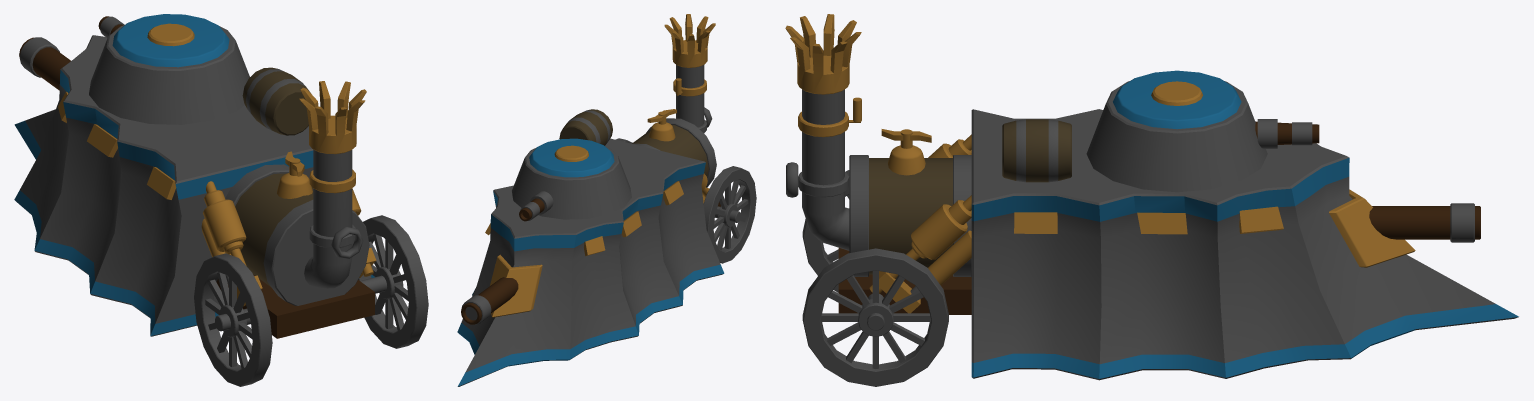
File: warhammer-tank.fbx
3 renders of one model, left to right at view 1: azimuth 30°, elevation 25°; view 2: azimuth 150°, elevation 25°; view 3: azimuth 270°, elevation 25°, orthographic. The views are drawn at different scales.
Visible parts, largest first — view 1: EmpireTank01:EmpireTank; view 2: EmpireTank01:EmpireTank; view 3: EmpireTank01:EmpireTank.
Boxes of the visible parts, left/top/right/bottom form: EmpireTank01:EmpireTank: left=14, top=14, right=428, bottom=386; EmpireTank01:EmpireTank: left=457, top=14, right=756, bottom=386; EmpireTank01:EmpireTank: left=785, top=14, right=1518, bottom=386.
Size of the model in its own units: 13.05 by 15.24 by 32.58.
